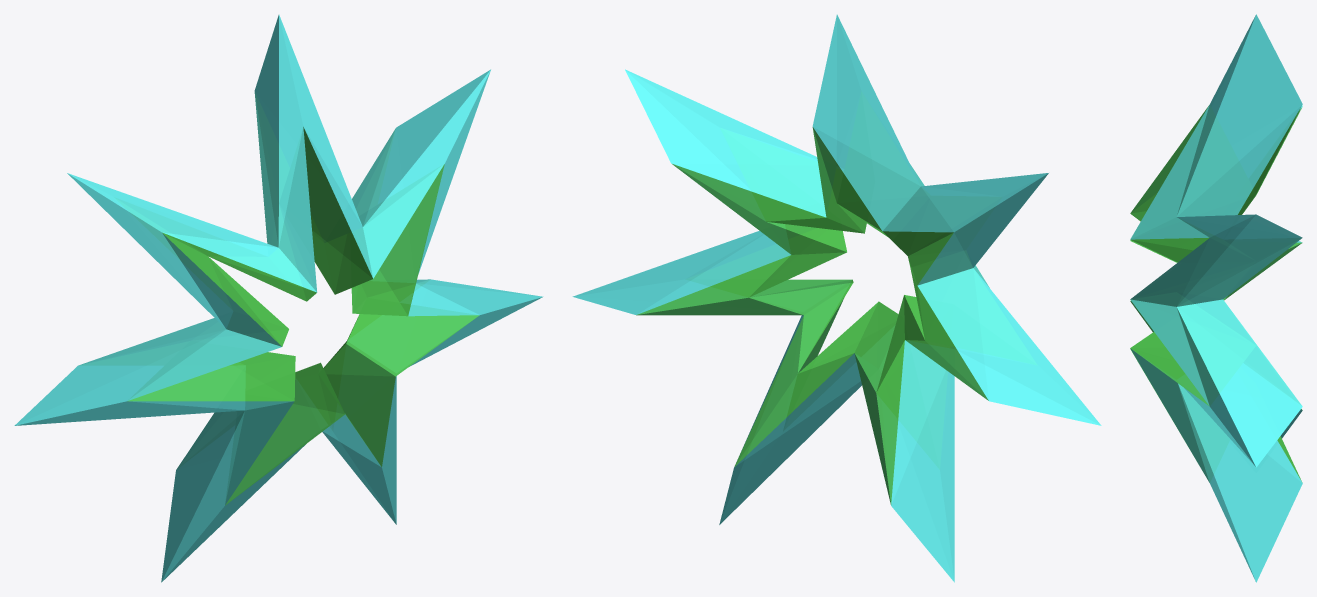
The model's file is Regular7TetragonalStarToroid1.obj.
The picture shows the model from 3 angles, left to right: view 1: azimuth 30°, elevation 25°; view 2: azimuth 150°, elevation 25°; view 3: azimuth 270°, elevation 25°; orthographic projection. The views are drawn at different scales.
Bounding box in the file's own units: 4.38 × 4.27 × 1.3.
